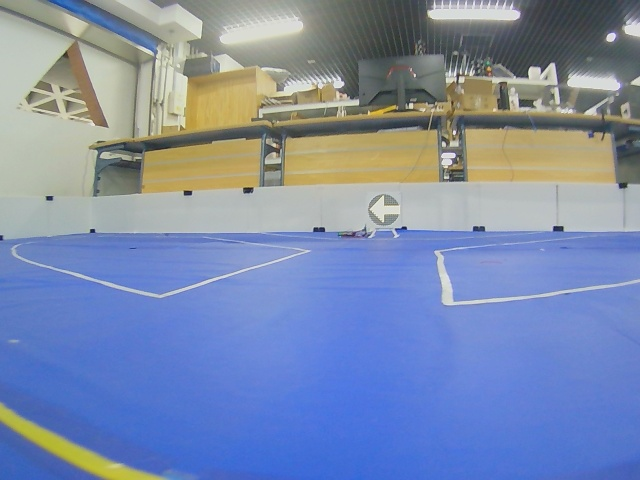left_yellow: (368, 194, 401, 226)
